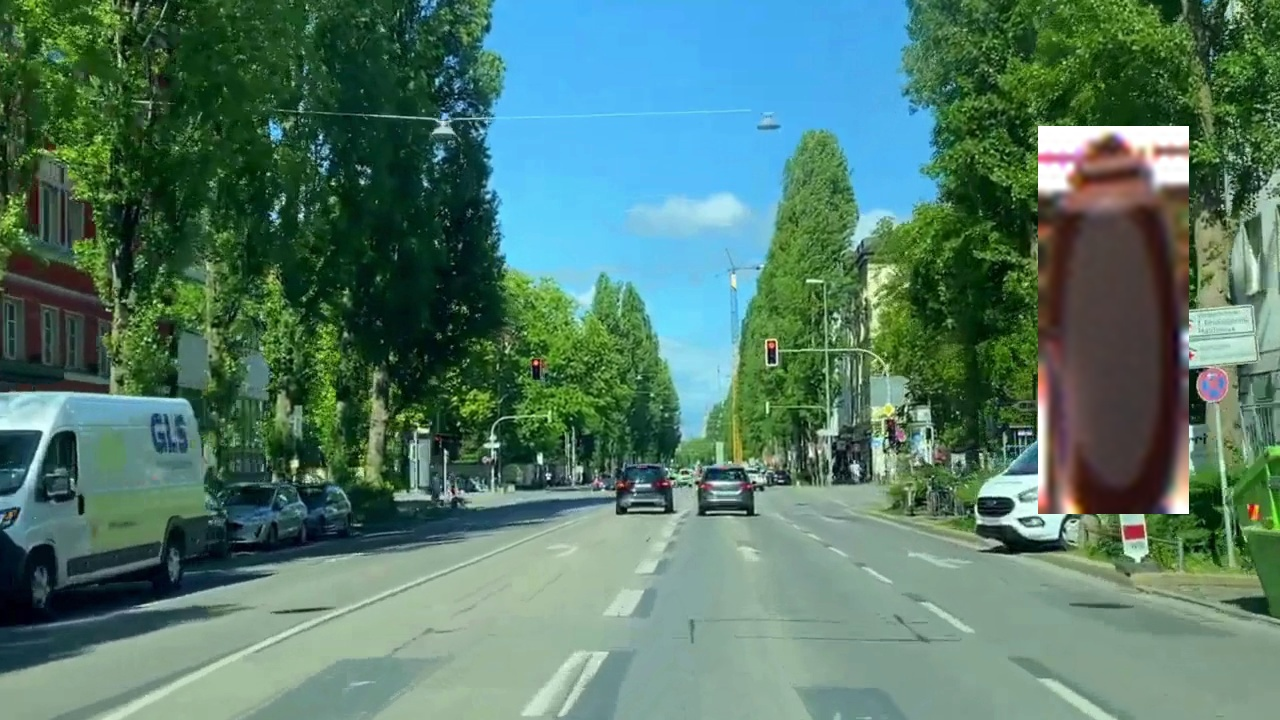No vehicles: (1038, 126, 1189, 514)
